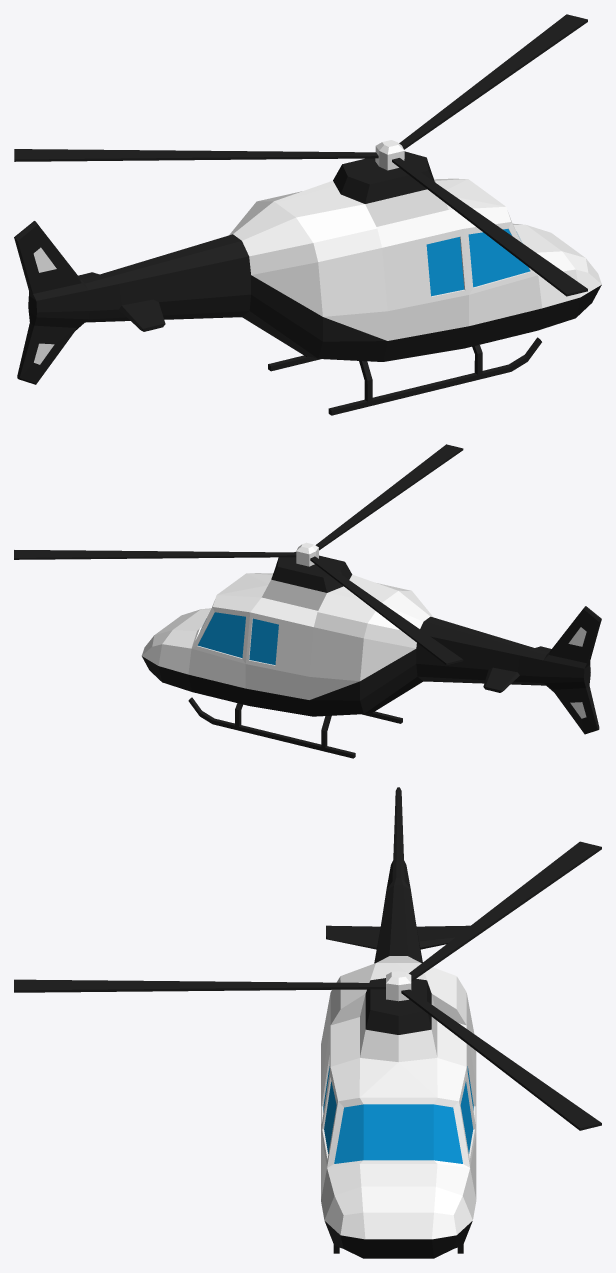
The model's file is fpropeller.obj.
3 renders of one model, top to bottom at view 1: azimuth 30°, elevation 25°; view 2: azimuth 150°, elevation 25°; view 3: azimuth 270°, elevation 25°, orthographic. The views are drawn at different scales.
Visible parts, largest first — view 1: Cube.001; view 2: Cube.001; view 3: Cube.001.
Part boxes in pixels (<box>): Cube.001: <box>14,14,601,415</box>; Cube.001: <box>14,444,601,758</box>; Cube.001: <box>14,787,601,1258</box>.
Size of the model in its own units: 29.34 by 10 by 22.02.
